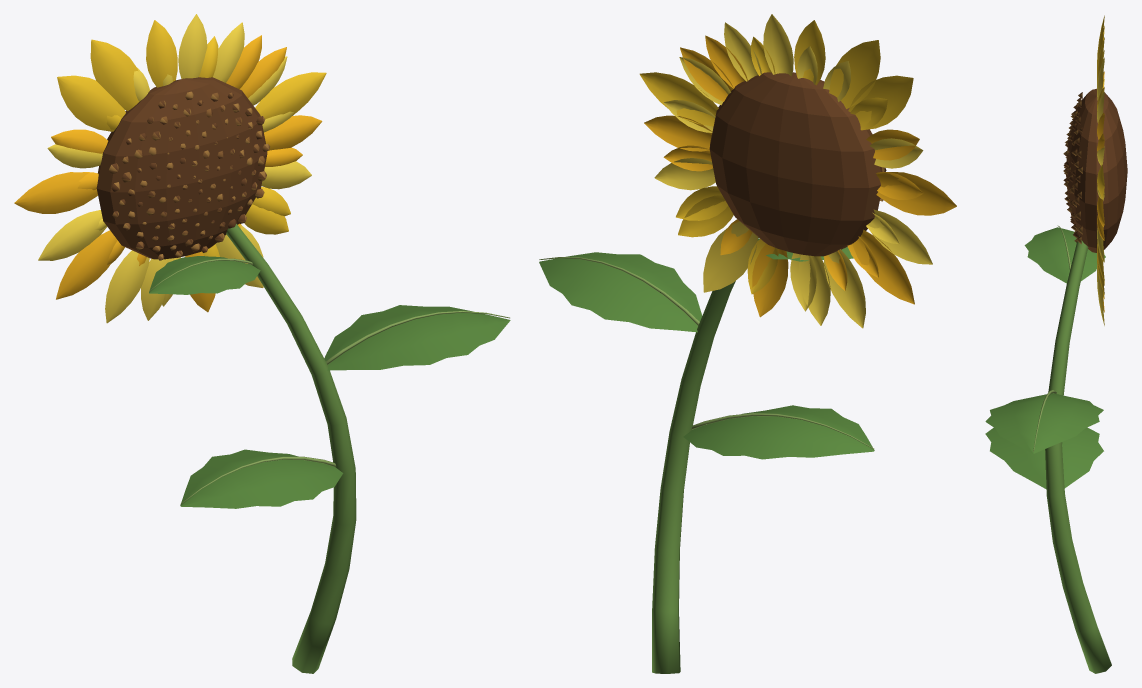
The model's file is sunflower-test-bloom-1-0.glb.
The picture shows the model from 3 angles, left to right: view 1: azimuth 30°, elevation 25°; view 2: azimuth 150°, elevation 25°; view 3: azimuth 270°, elevation 25°; orthographic projection. The views are drawn at different scales.
Visible parts, largest first — view 1: Curved tapered stem; view 2: Curved tapered stem; view 3: Curved tapered stem.
Part boxes in pixels (<box>): Curved tapered stem: <box>14,14,510,673</box>; Curved tapered stem: <box>539,14,956,673</box>; Curved tapered stem: <box>985,15,1127,673</box>.
Bounding box in the file's own units: 0.3253 × 0.469 × 0.1056.
